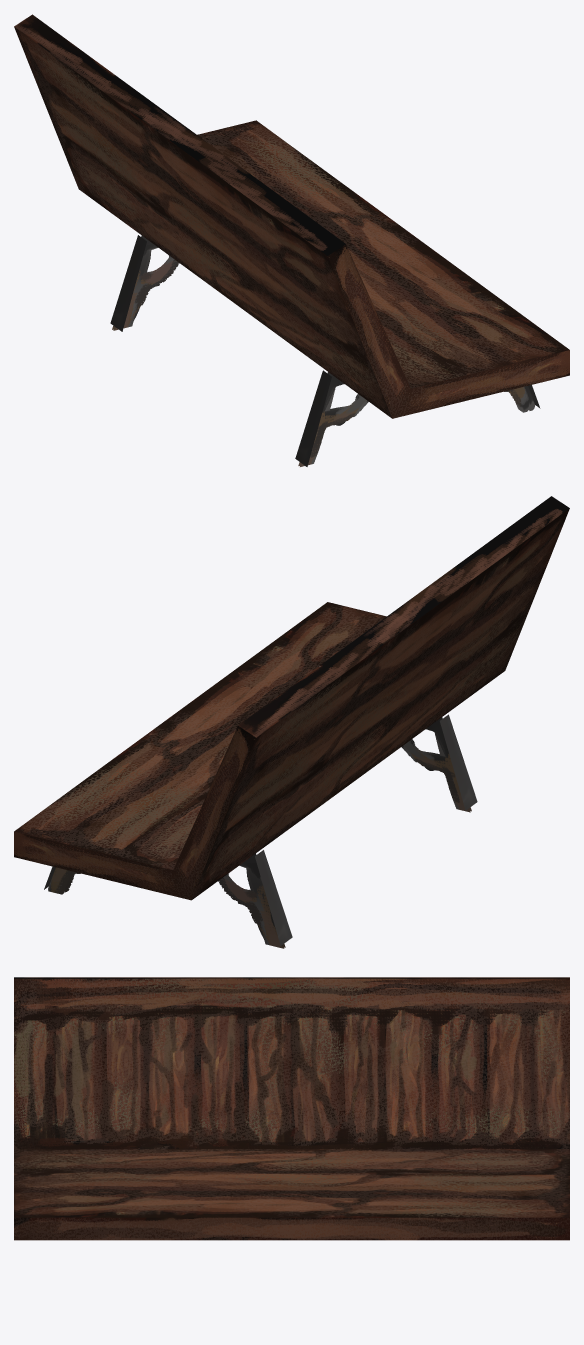
File: Bench01.fbx
3 views of the same model, one above another, from view 1: azimuth 30°, elevation 25°; view 2: azimuth 150°, elevation 25°; view 3: azimuth 270°, elevation 25° (orthographic). The views are drawn at different scales.
Parts seen in each view (by area): view 1: Bench01; view 2: Bench01; view 3: Bench01.
Part boxes in pixels (left/top/right/bottom): Bench01: left=14, top=14, right=569, bottom=466; Bench01: left=14, top=496, right=569, bottom=948; Bench01: left=14, top=977, right=569, bottom=1240.
Size of the model in its own units: 1.06 by 1.01 by 2.11.
Materials: 1 (1 with a texture image).
